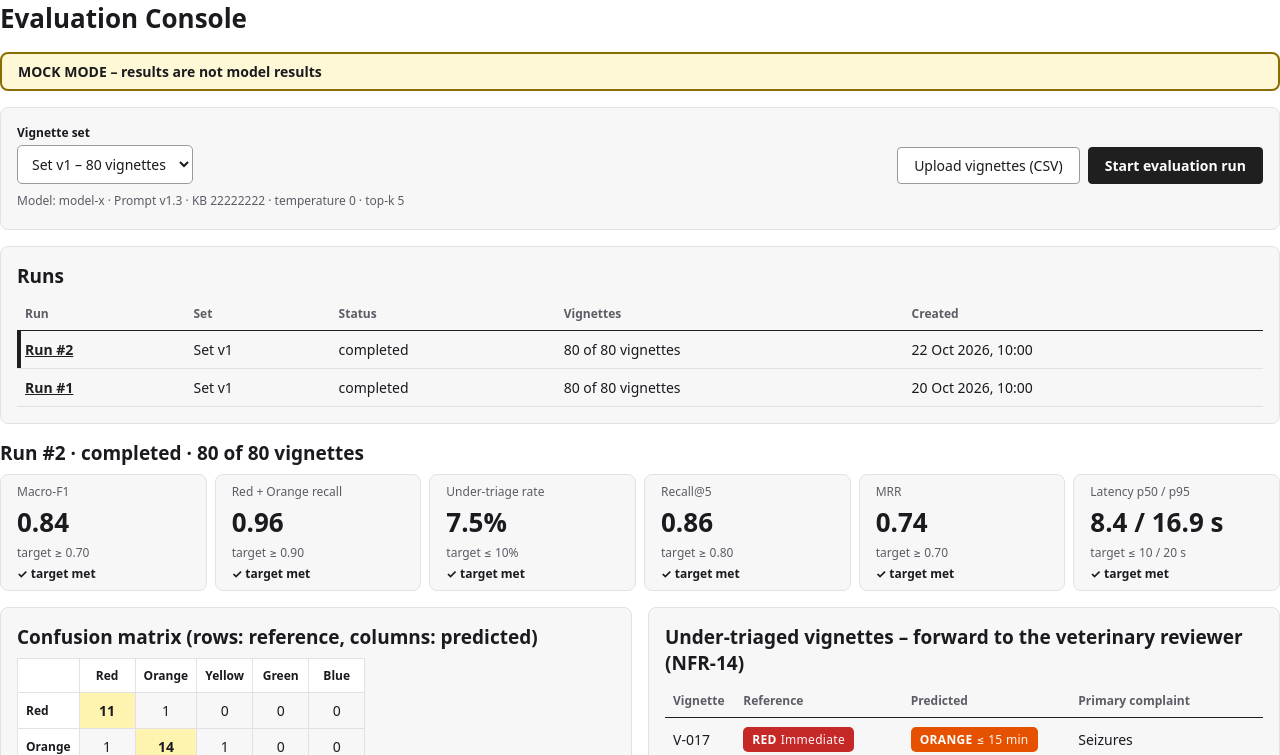
the MOCK MODE banner (ADR-17) › follows the run that is selected
Expected: the text "MOCK MODE – results are not model results" is shown, [0, 52, 1279, 91]
What coordinates should you click on to do the following:
click the button with aria-label "Show run #1"
I would click on:
 (49, 388)
Its box is [25, 378, 73, 397].
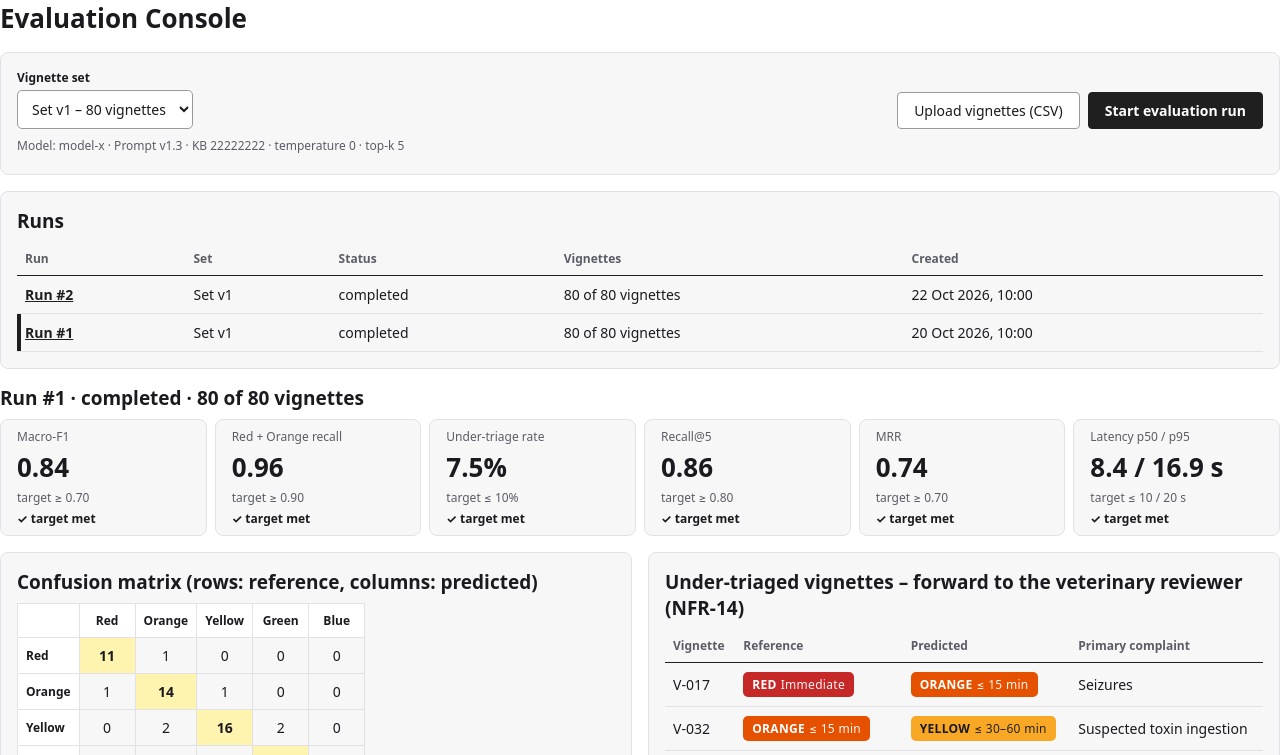
Now the text "MOCK MODE – results are not model results" is gone
